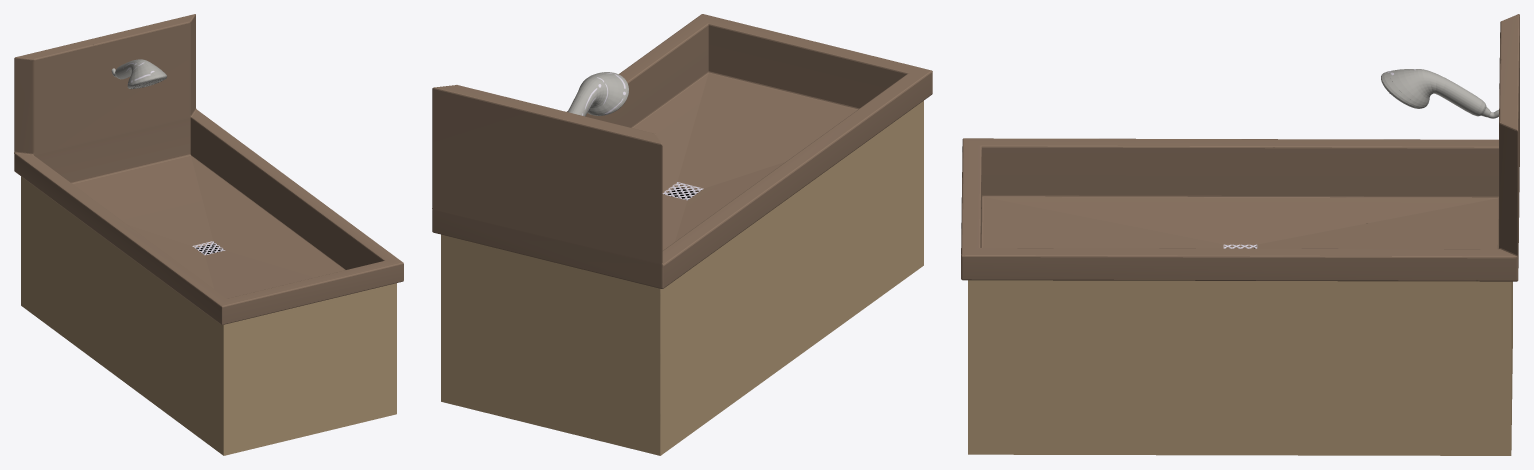
The model's file is Bathing Station2.fbx.
3 renders of one model, left to right at view 1: azimuth 30°, elevation 25°; view 2: azimuth 150°, elevation 25°; view 3: azimuth 270°, elevation 25°, orthographic. The views are drawn at different scales.
Visible parts, largest first — view 1: Bathing_Station2; view 2: Bathing_Station2; view 3: Bathing_Station2.
Boxes of the visible parts, box(x1,y1,x2,y2) form: Bathing_Station2: box(14, 14, 403, 455); Bathing_Station2: box(432, 14, 932, 455); Bathing_Station2: box(961, 14, 1519, 455).
Bounding box in the file's own units: 166 × 215 × 330.
Materials: 1 (1 with a texture image).
